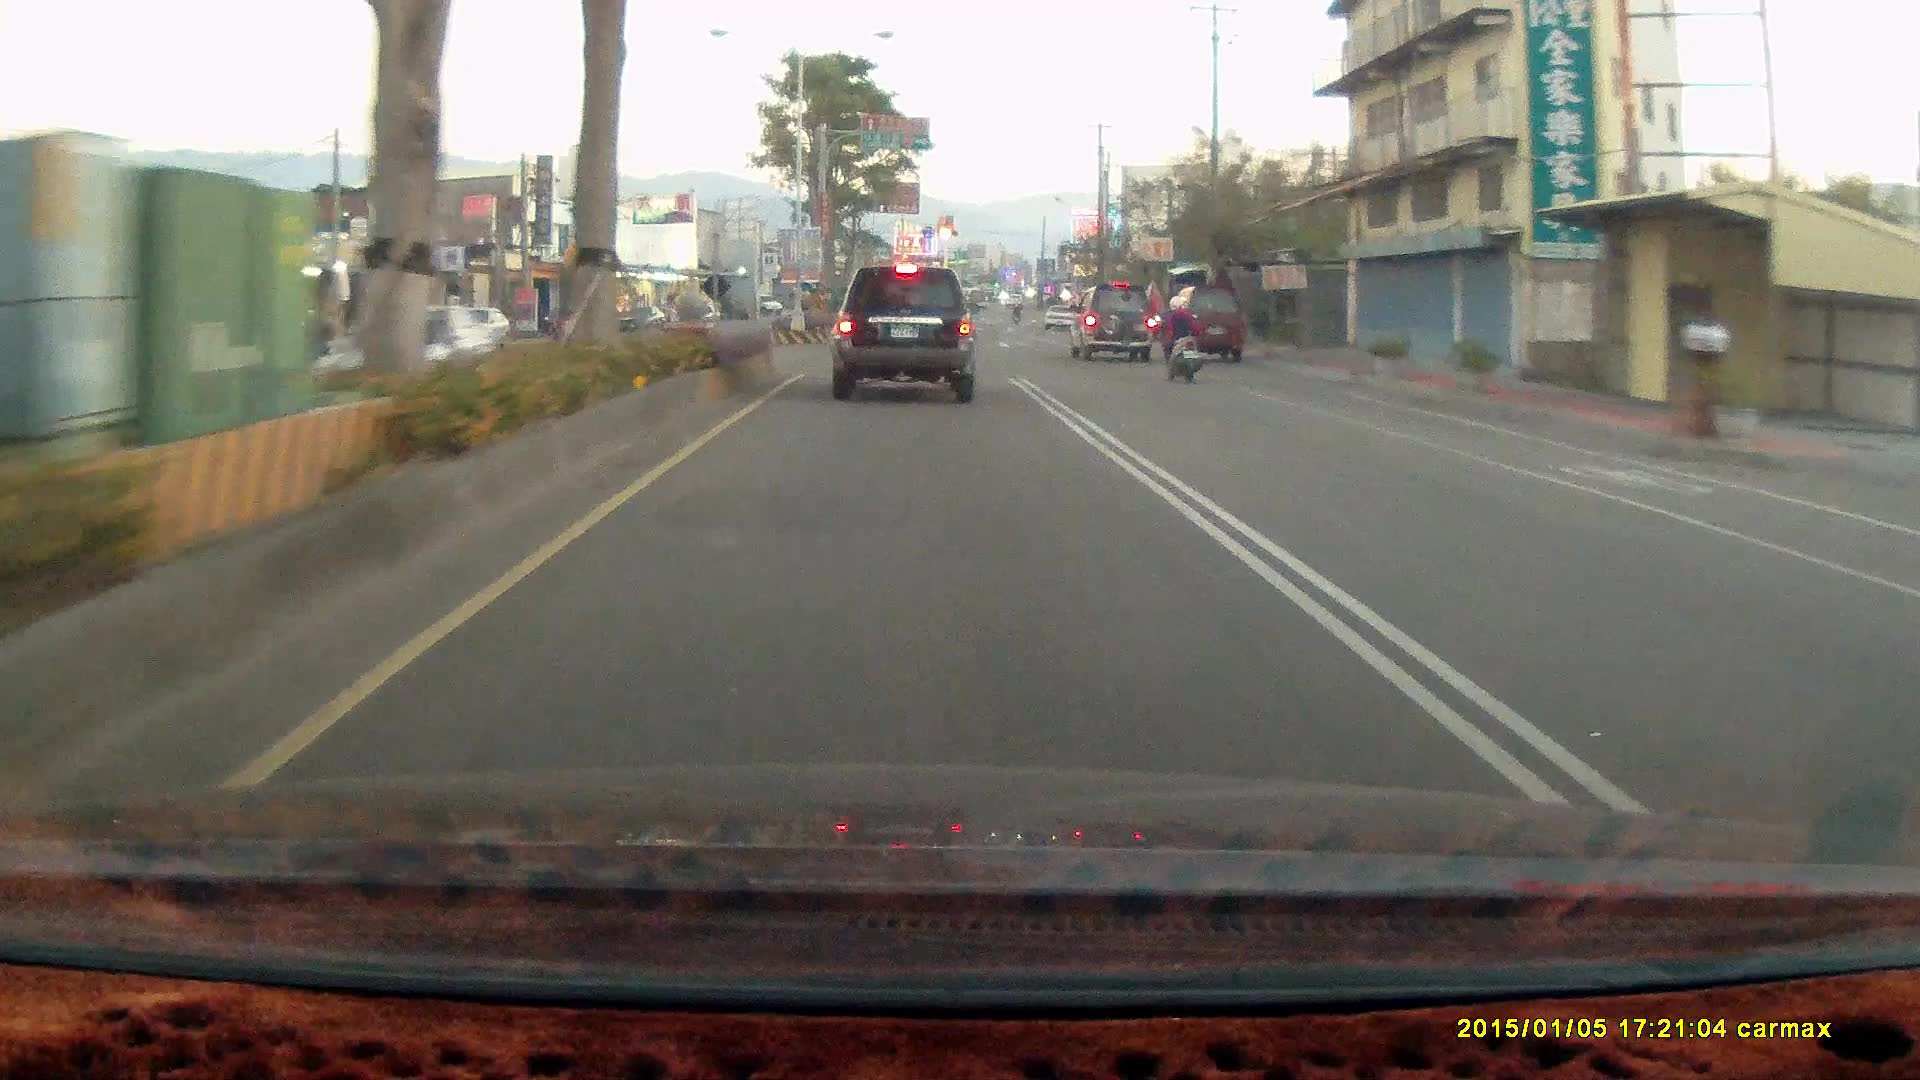rider: (1148, 285, 1212, 392), (1148, 290, 1199, 380)
vehicle: (831, 256, 982, 410), (830, 265, 979, 402), (1074, 280, 1164, 362), (1064, 279, 1153, 357), (1169, 281, 1248, 365), (1170, 280, 1244, 358), (449, 305, 510, 342)
